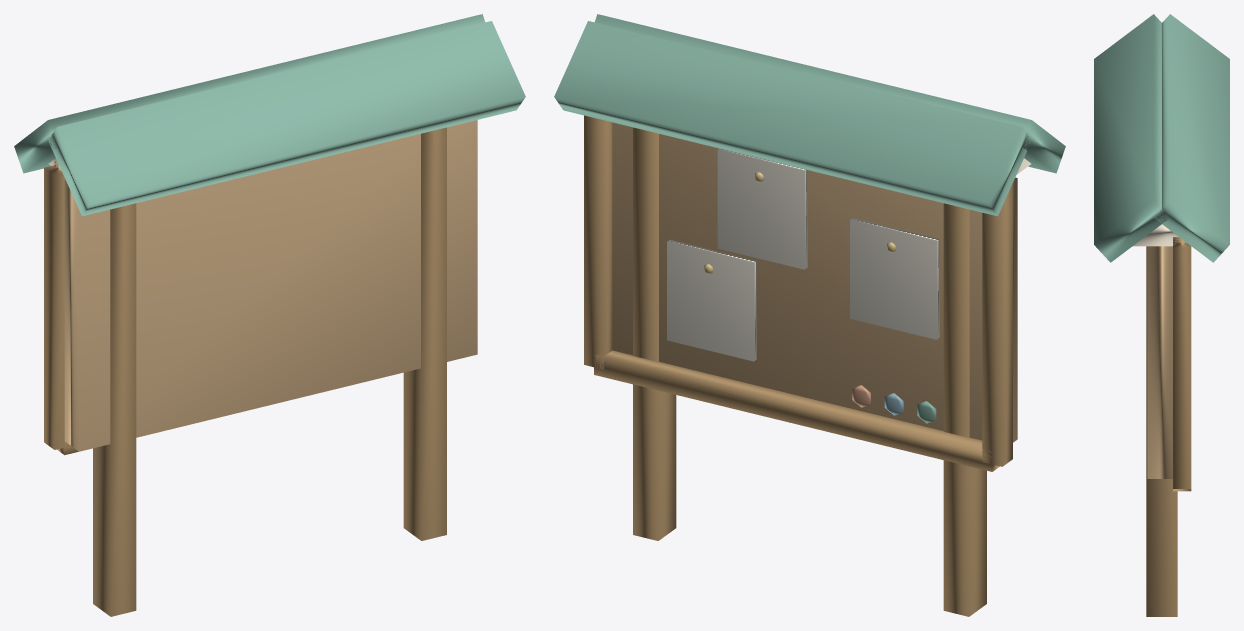
File: missions_low.glb
3 views of the same model, side by side, from view 1: azimuth 30°, elevation 25°; view 2: azimuth 150°, elevation 25°; view 3: azimuth 270°, elevation 25° (orthographic). The views are drawn at different scales.
Size of the model in its own units: 2.4 by 2.63 by 0.7395.
